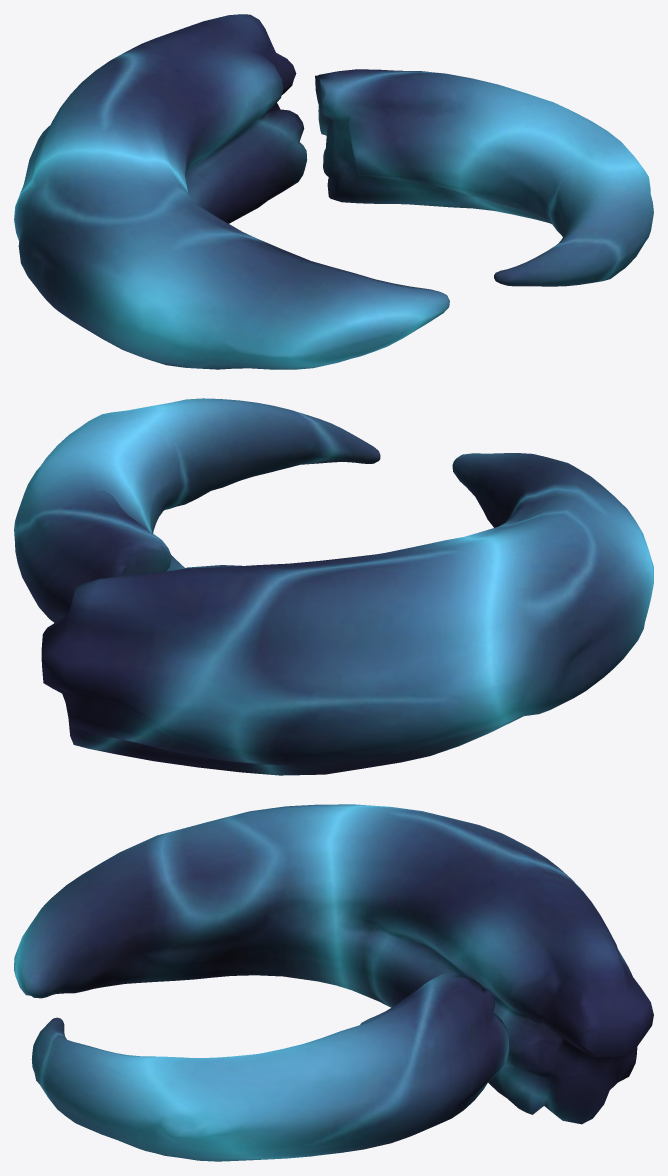
Rendered from caos_drs_clawplantdebris_01a_v35.glb.
The picture shows the model from 3 angles, top to bottom: view 1: azimuth 30°, elevation 25°; view 2: azimuth 150°, elevation 25°; view 3: azimuth 270°, elevation 25°; orthographic projection. The views are drawn at different scales.
Parts seen in each view (by area): view 1: caos_drs_clawplantdebris_01a; view 2: caos_drs_clawplantdebris_01a; view 3: caos_drs_clawplantdebris_01a.
Part boxes in pixels (x1,y1,x2,y2): caos_drs_clawplantdebris_01a: (14,14,653,369); caos_drs_clawplantdebris_01a: (14,398,653,775); caos_drs_clawplantdebris_01a: (14,804,653,1161).
Size of the model in its own units: 1.06 by 0.3513 by 1.05.
Materials: 1 (1 with a texture image).
